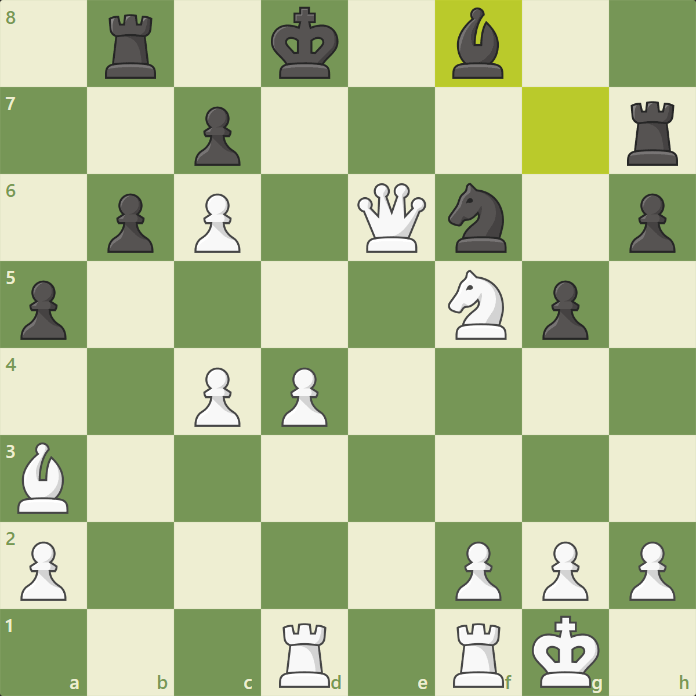B: (15, 440, 70, 518)
K: (531, 614, 602, 690)
N: (446, 268, 509, 343)
P: (628, 539, 676, 604), (540, 538, 588, 603), (454, 539, 502, 604), (19, 538, 67, 603), (192, 364, 240, 429), (279, 364, 327, 429), (192, 191, 240, 256)
Q: (354, 181, 428, 256)
R: (276, 621, 333, 690), (448, 622, 505, 691)
b: (450, 5, 506, 82)
k: (268, 4, 340, 82)
n: (446, 182, 510, 256)
p: (18, 279, 68, 343), (104, 192, 154, 256), (192, 106, 242, 170), (626, 192, 676, 256), (540, 279, 590, 343)
r: (103, 12, 161, 83), (623, 99, 680, 169)
